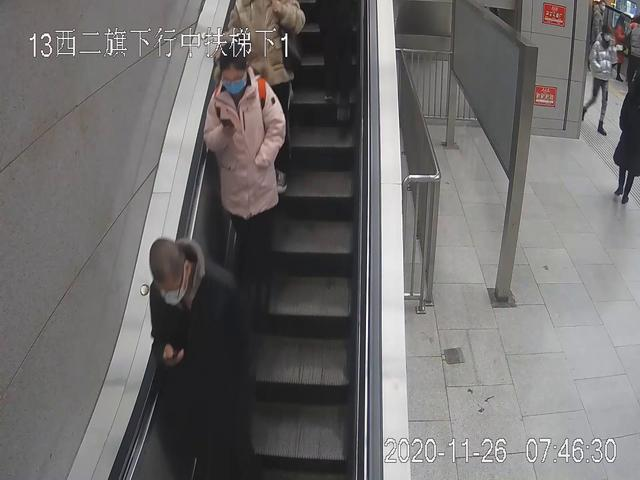person: (148, 239, 254, 479), (201, 45, 288, 317), (223, 1, 306, 197), (581, 27, 620, 134), (614, 77, 640, 202)
